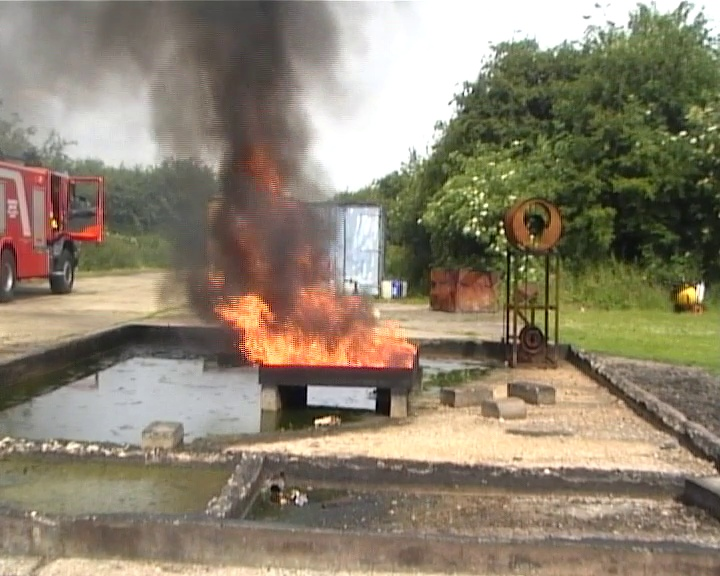fire: (218, 294, 409, 367)
